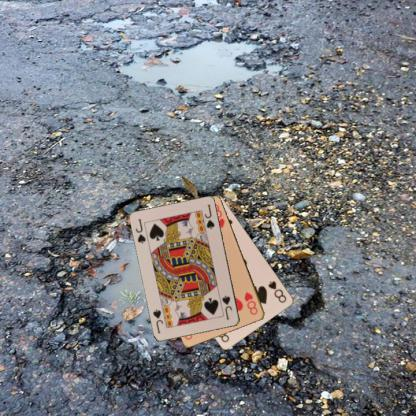8h: (242, 290, 259, 316)
8s: (266, 278, 288, 304)
Js: (219, 293, 234, 321), (133, 217, 147, 245)
